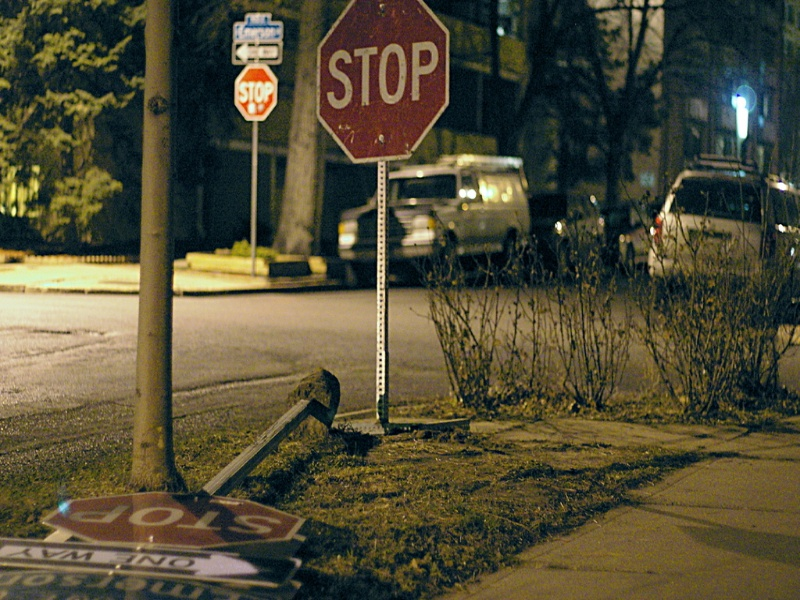stop: (313, 1, 453, 167), (38, 487, 311, 555), (230, 65, 283, 122)
